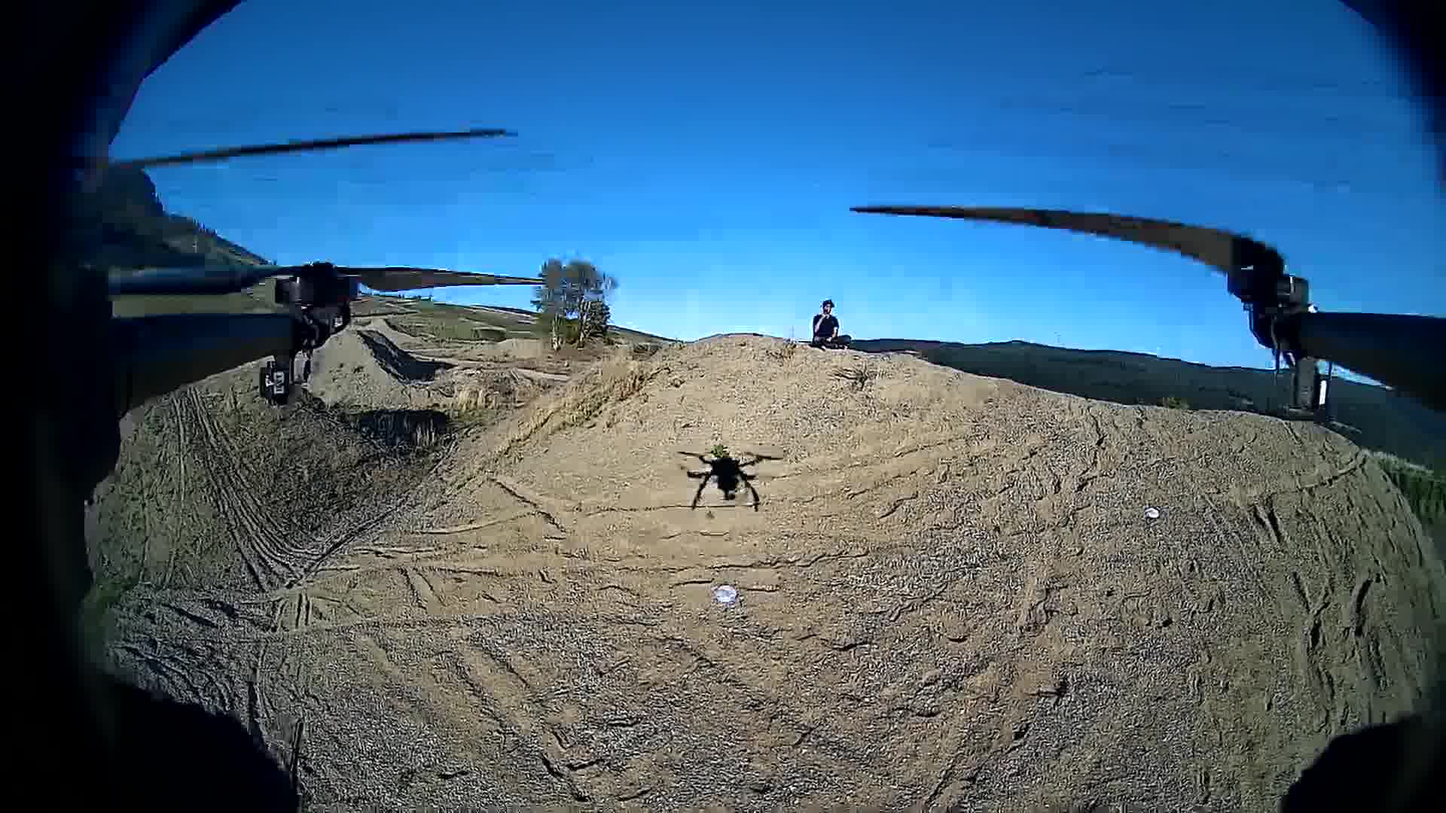Target: (713, 583, 735, 604), (1146, 505, 1159, 520)
